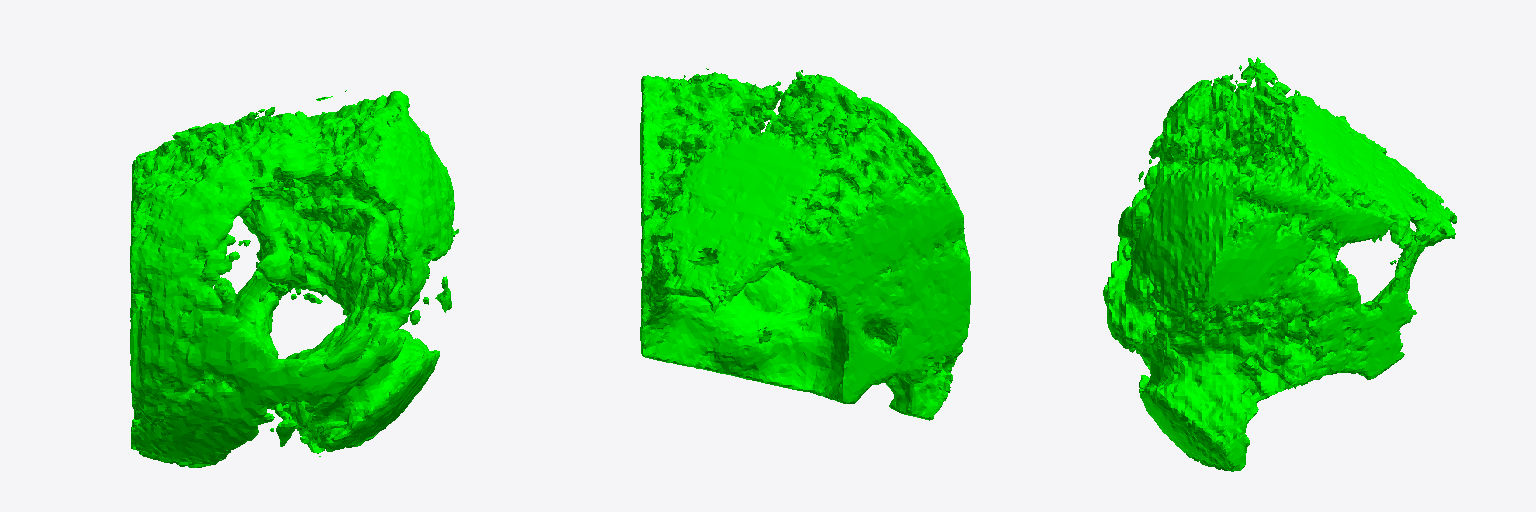
The model's file is B939XXXX-1_base_20.obj.
3 views of the same model, side by side, from view 1: azimuth 30°, elevation 25°; view 2: azimuth 150°, elevation 25°; view 3: azimuth 270°, elevation 25° (orthographic).
Parts seen in each view (by area): view 1: 20_base; view 2: 20_base; view 3: 20_base.
Part boxes in pixels (x1,y1,x2,y2): 20_base: (130,90,458,467); 20_base: (640,68,970,420); 20_base: (1103,57,1456,471).
Bounding box in the file's own units: 219 × 216 × 204.